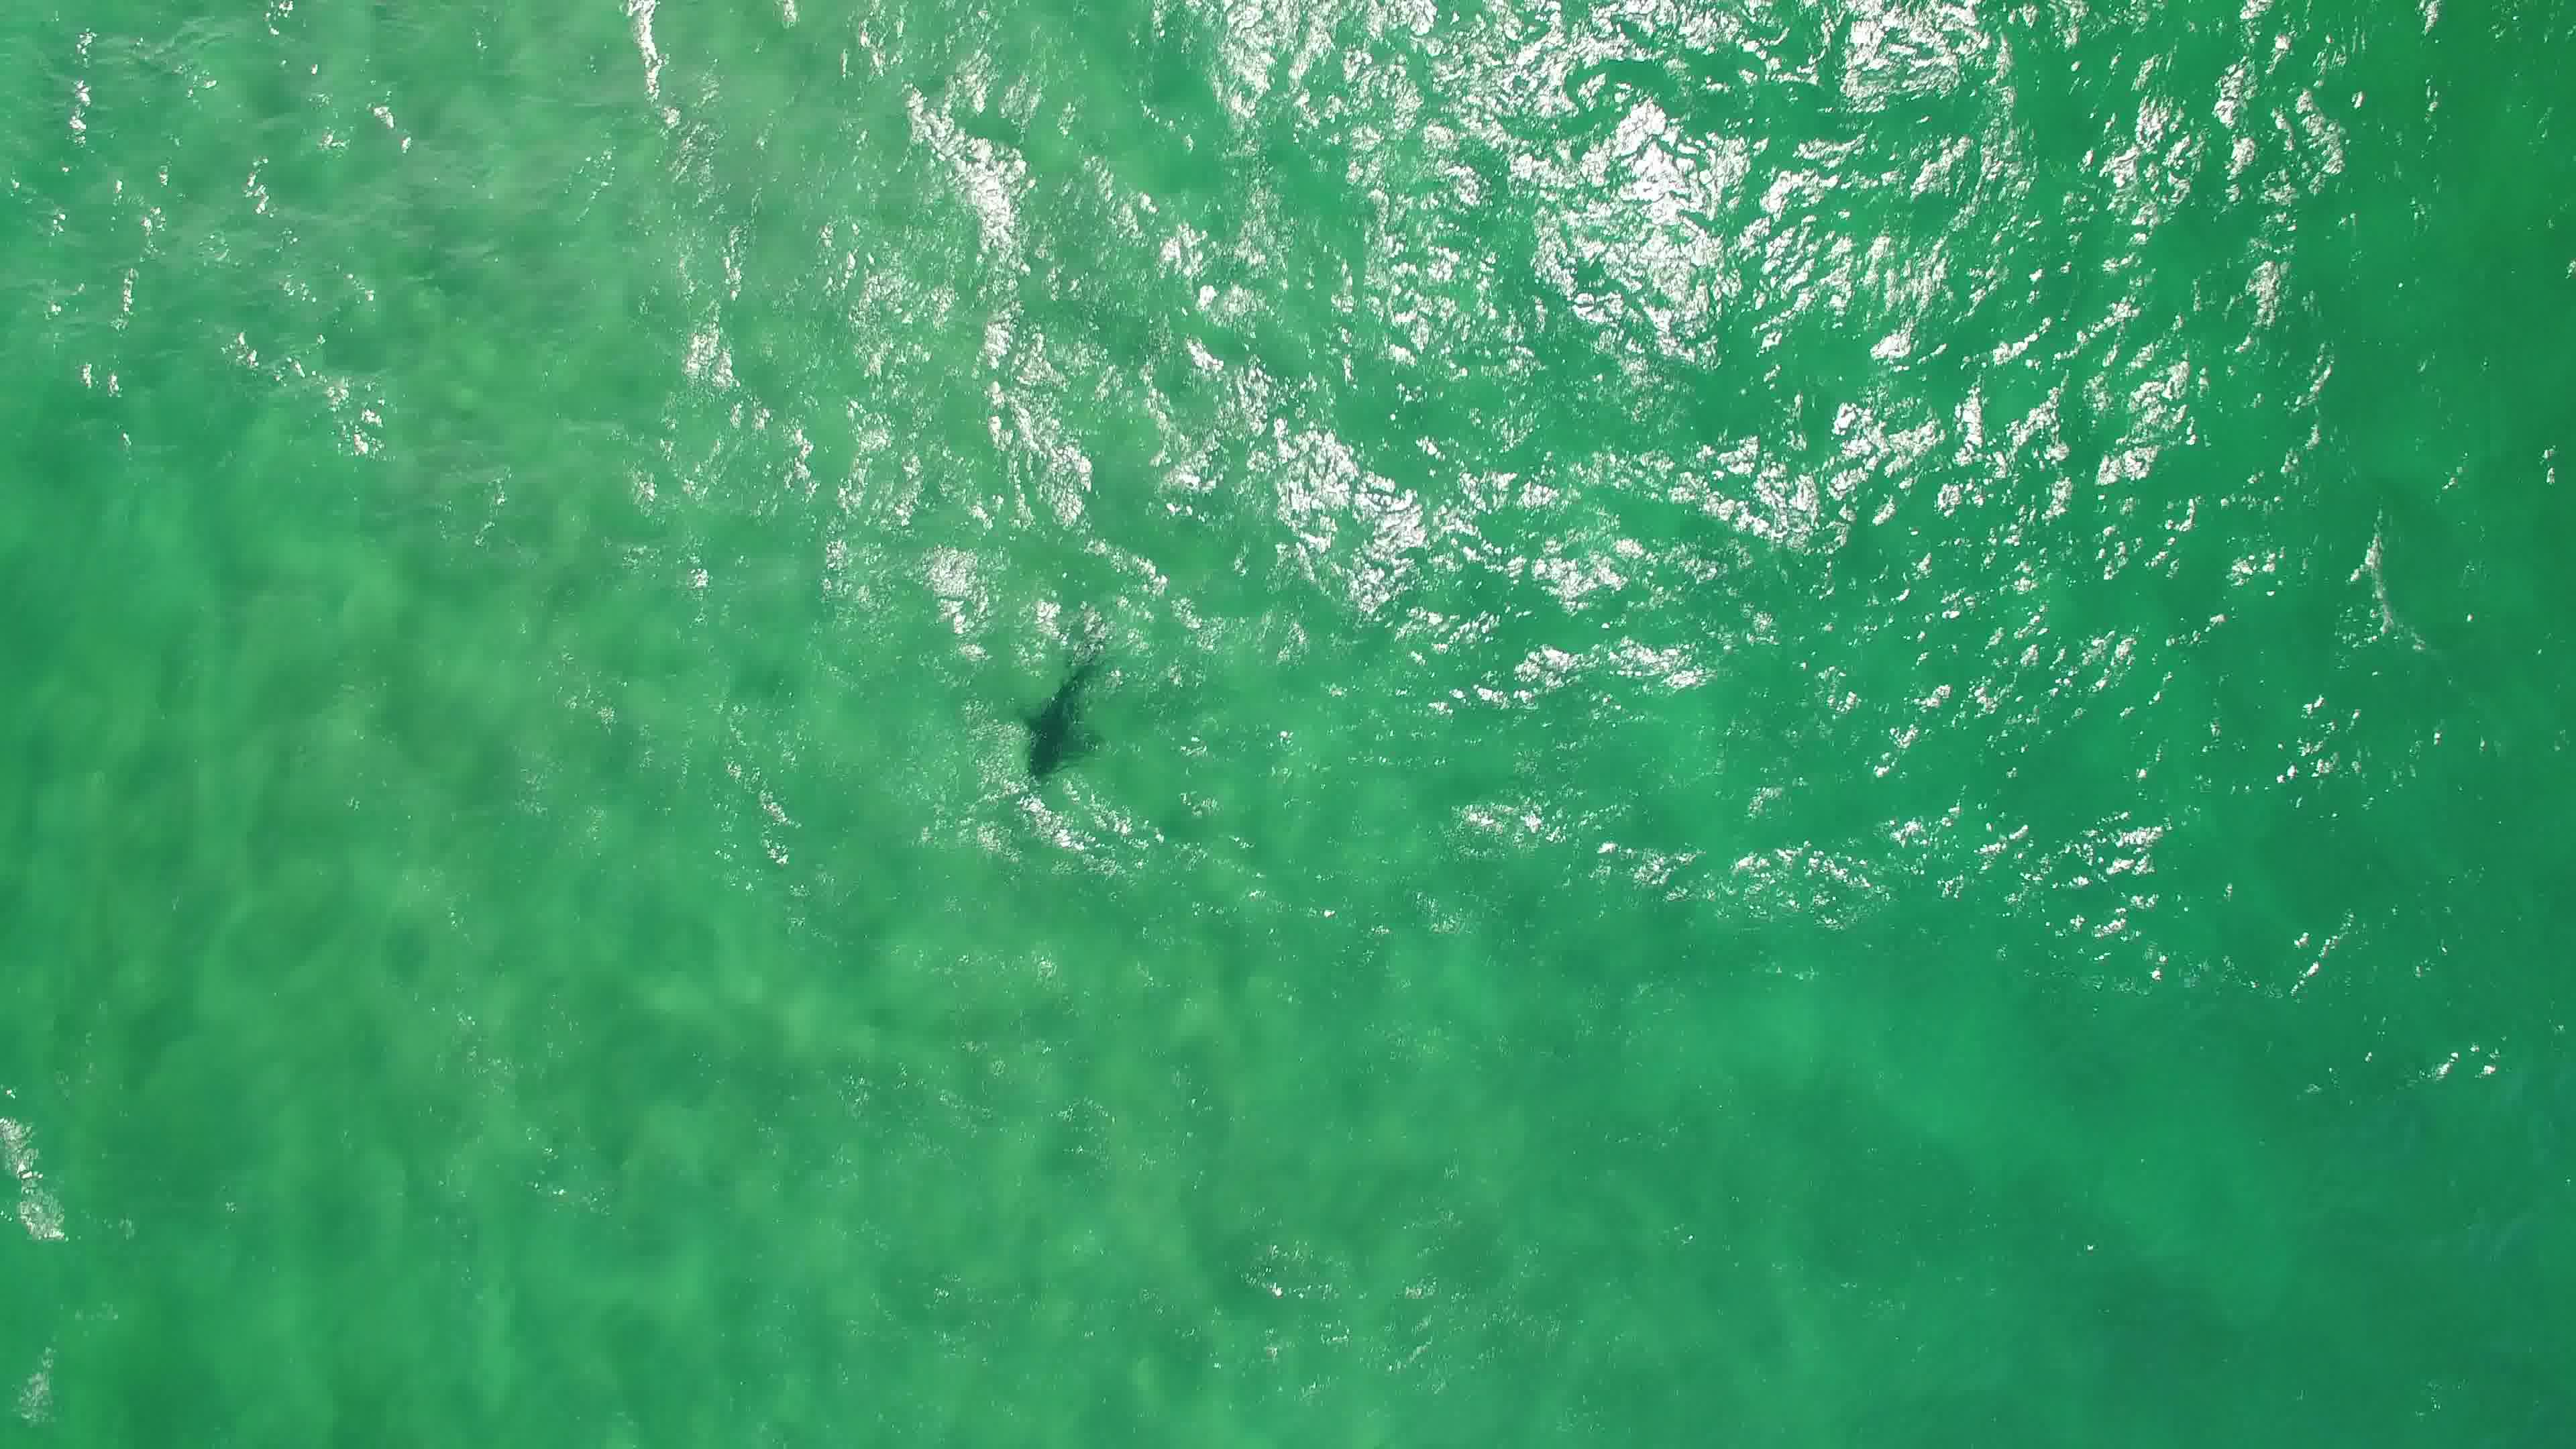shark: (1005, 648, 1111, 793)
